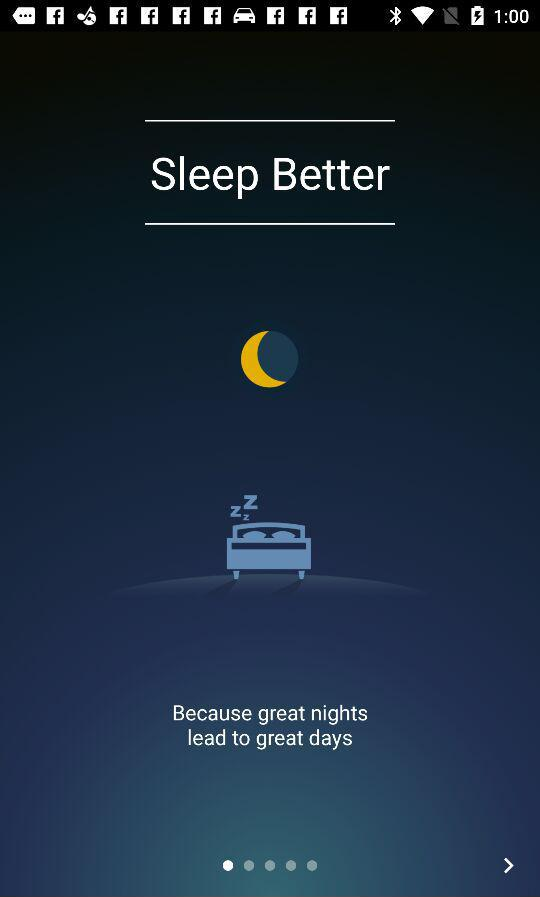BackgroundImage: (2, 35, 540, 896)
Icon: (501, 856, 516, 876)
PageIndicator: (222, 858, 320, 873)
Text: (152, 155, 392, 201), (173, 704, 369, 752)
UpperTaskBar: (1, 1, 540, 33)
